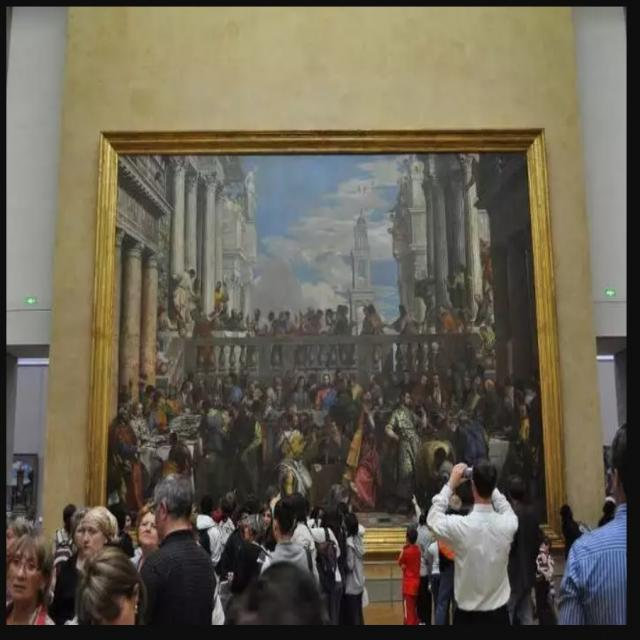Tablo: (101, 151, 550, 535)
